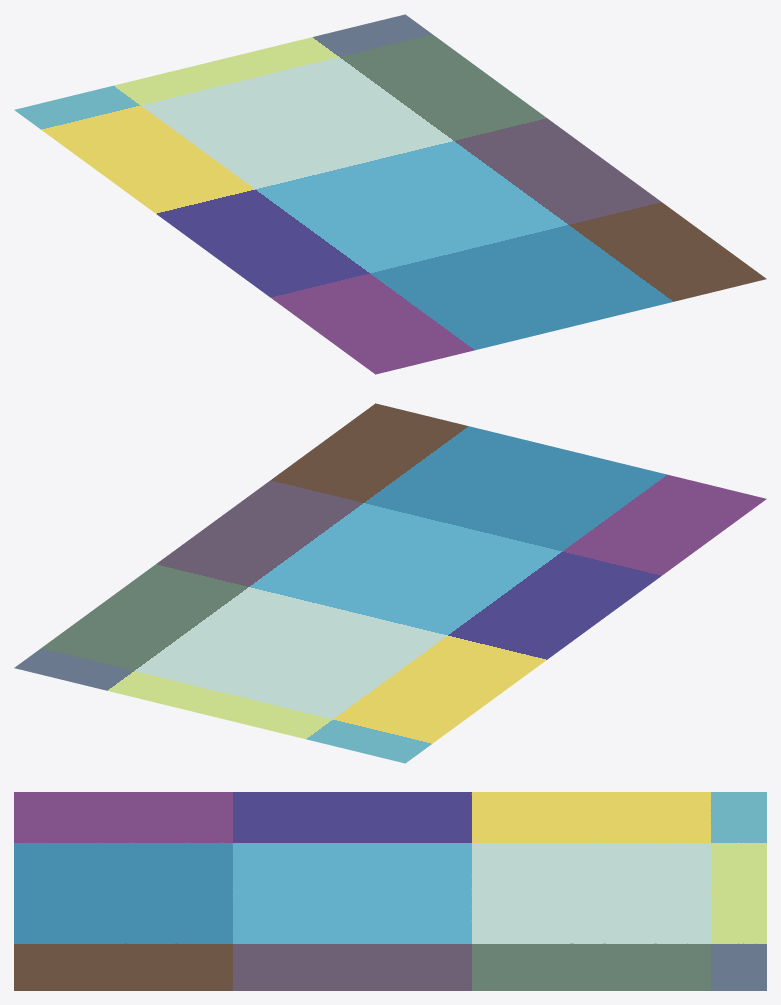
File: RoadPart_01.fbx
3 renders of one model, top to bottom at view 1: azimuth 30°, elevation 25°; view 2: azimuth 150°, elevation 25°; view 3: azimuth 270°, elevation 25°, orthographic. The views are drawn at different scales.
Visible parts, largest first — view 1: Plane; view 2: Plane; view 3: Plane.
Part boxes in pixels (box(x1,y1,x2,y2)): Plane: box(14, 14, 766, 374); Plane: box(14, 403, 766, 763); Plane: box(14, 792, 766, 990).
Size of the model in its own units: 400 by 0.000138 by 640.
